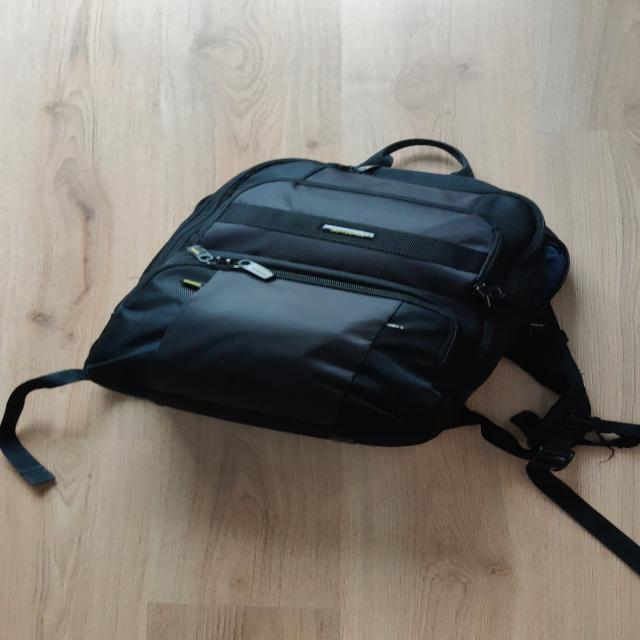backpack: (71, 131, 598, 456)
